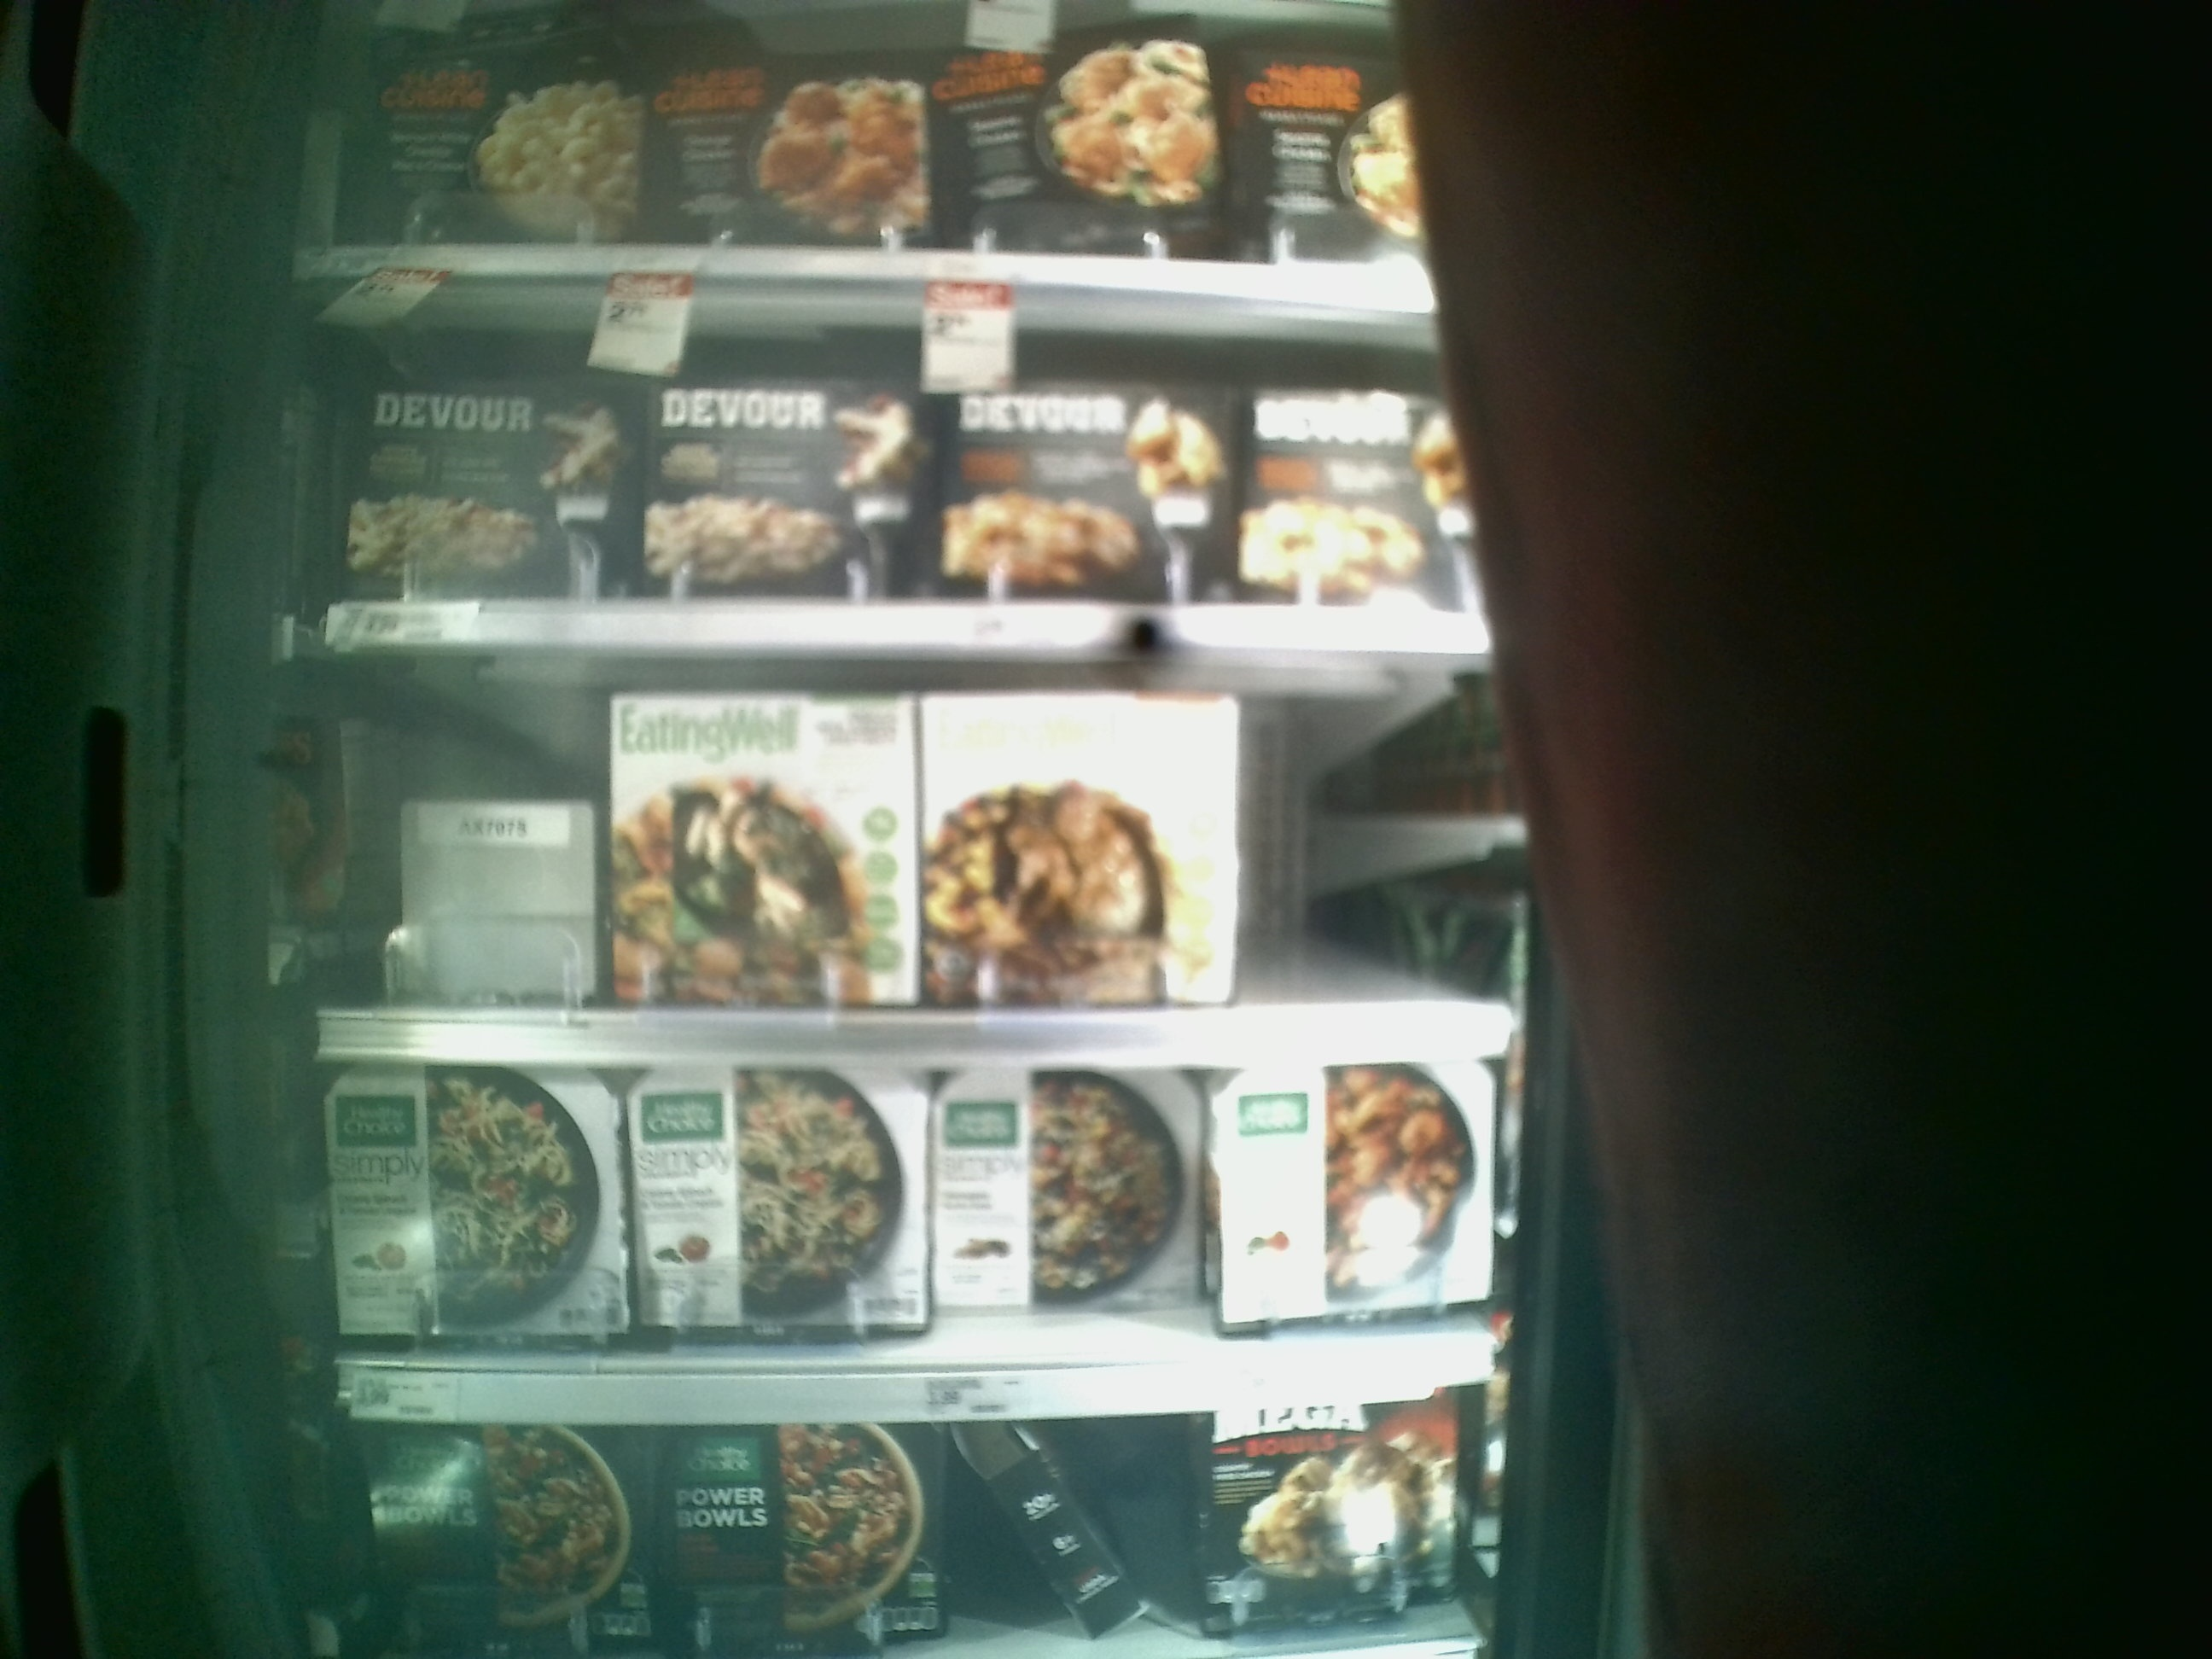shelf: (308, 636, 1552, 1063), (305, 1058, 1531, 1422)
